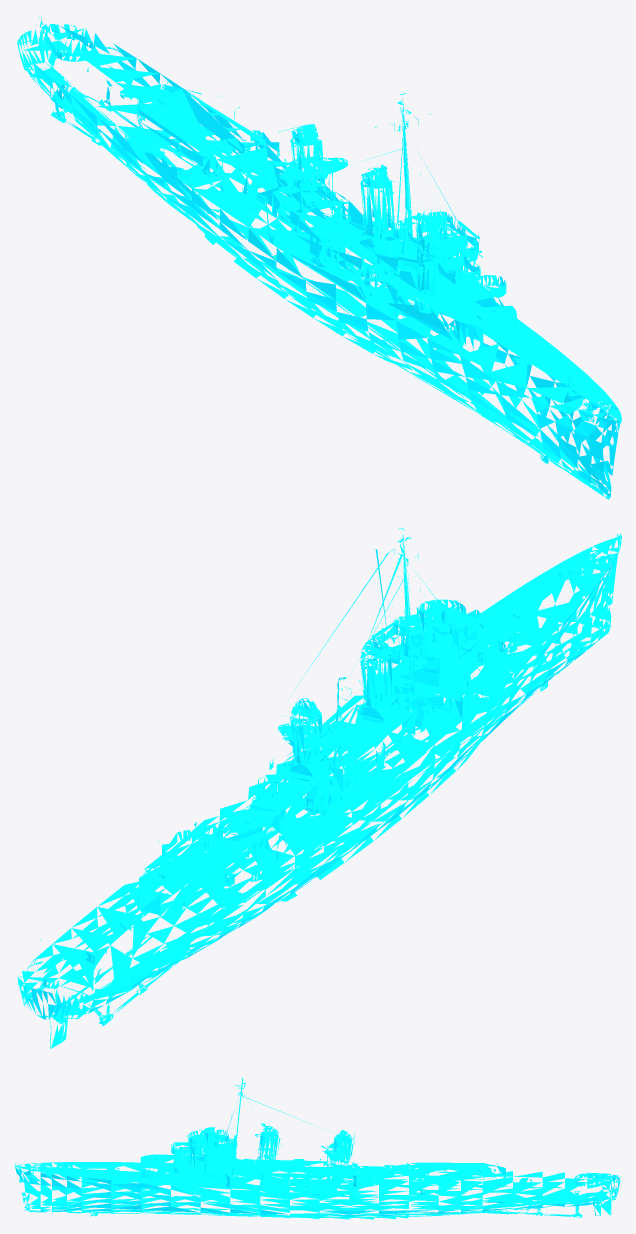
File: Halford.glb
The picture shows the model from 3 angles, top to bottom: view 1: azimuth 30°, elevation 25°; view 2: azimuth 150°, elevation 25°; view 3: azimuth 270°, elevation 25°; orthographic projection. The views are drawn at different scales.
Bounding box in the file's own units: 0.8001 × 1.93 × 7.67.
